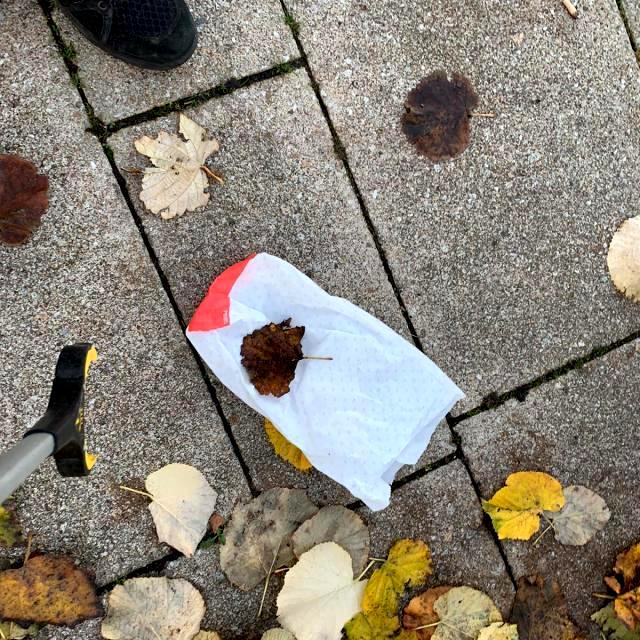Paper: (182, 248, 468, 514)
